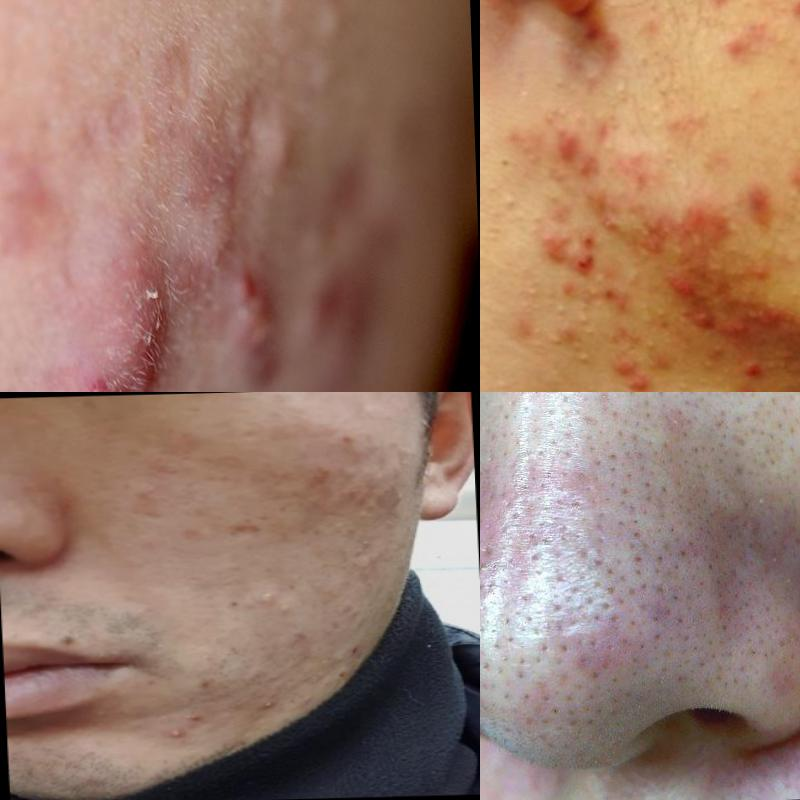acne_scars: (212, 512, 271, 558)
blackhead: (508, 676, 604, 744), (483, 459, 569, 530), (559, 606, 646, 676), (639, 449, 729, 515), (724, 393, 800, 465), (496, 535, 572, 604), (713, 602, 787, 670), (573, 455, 631, 537), (489, 604, 556, 674), (624, 522, 691, 587), (512, 393, 589, 448), (594, 393, 662, 446), (698, 524, 757, 584), (573, 543, 630, 605), (648, 600, 706, 658), (481, 621, 492, 681)
milium: (766, 546, 798, 597), (662, 407, 699, 446), (738, 488, 784, 516)
papular: (716, 36, 772, 77), (667, 267, 716, 312), (596, 358, 653, 393), (738, 183, 780, 230), (574, 236, 602, 289), (547, 123, 583, 161), (728, 354, 767, 389), (576, 17, 616, 50), (720, 316, 755, 353), (538, 234, 567, 263), (782, 1, 800, 32), (785, 160, 800, 194)
purulent: (145, 722, 193, 762)
sebo-crystan-conglo: (86, 241, 169, 393), (208, 253, 293, 393)
whitehead: (248, 584, 304, 631), (495, 192, 533, 229), (611, 71, 638, 114), (564, 348, 599, 374), (362, 464, 397, 490), (574, 66, 610, 91), (547, 70, 576, 100), (618, 271, 651, 296), (548, 298, 578, 324), (346, 502, 381, 524), (514, 279, 545, 303), (481, 370, 513, 393), (641, 337, 671, 360), (651, 65, 678, 89), (791, 253, 800, 284)
